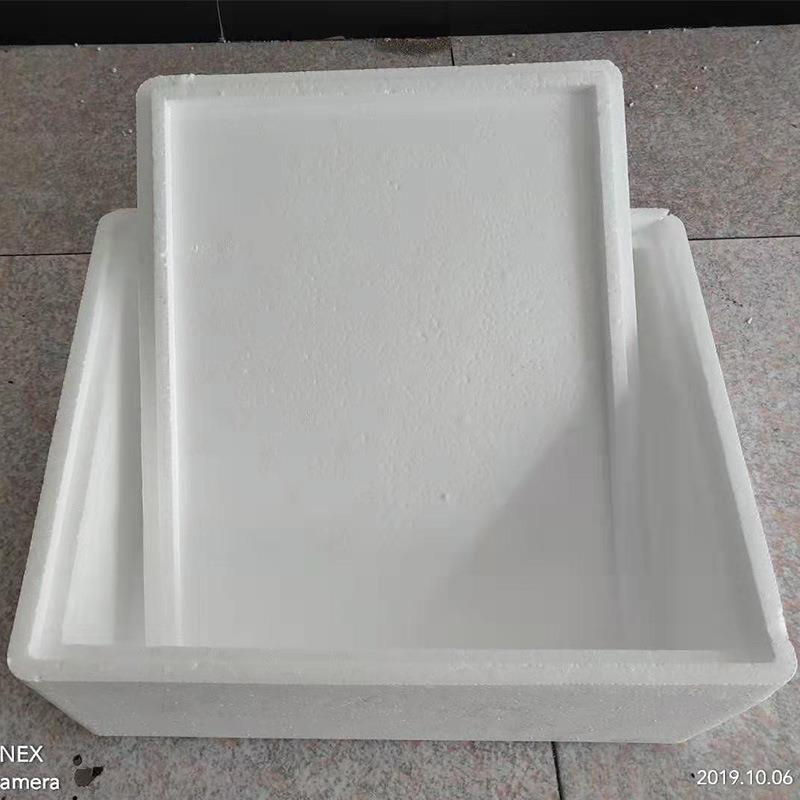泡沫箱: (8, 62, 794, 742)
